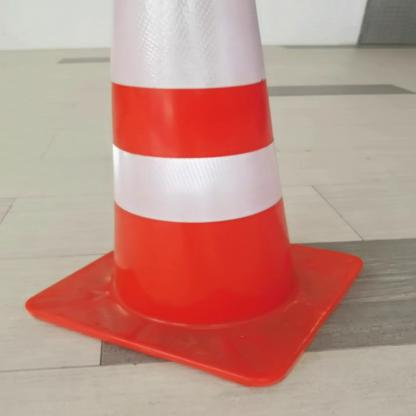cone: (10, 1, 385, 390)
